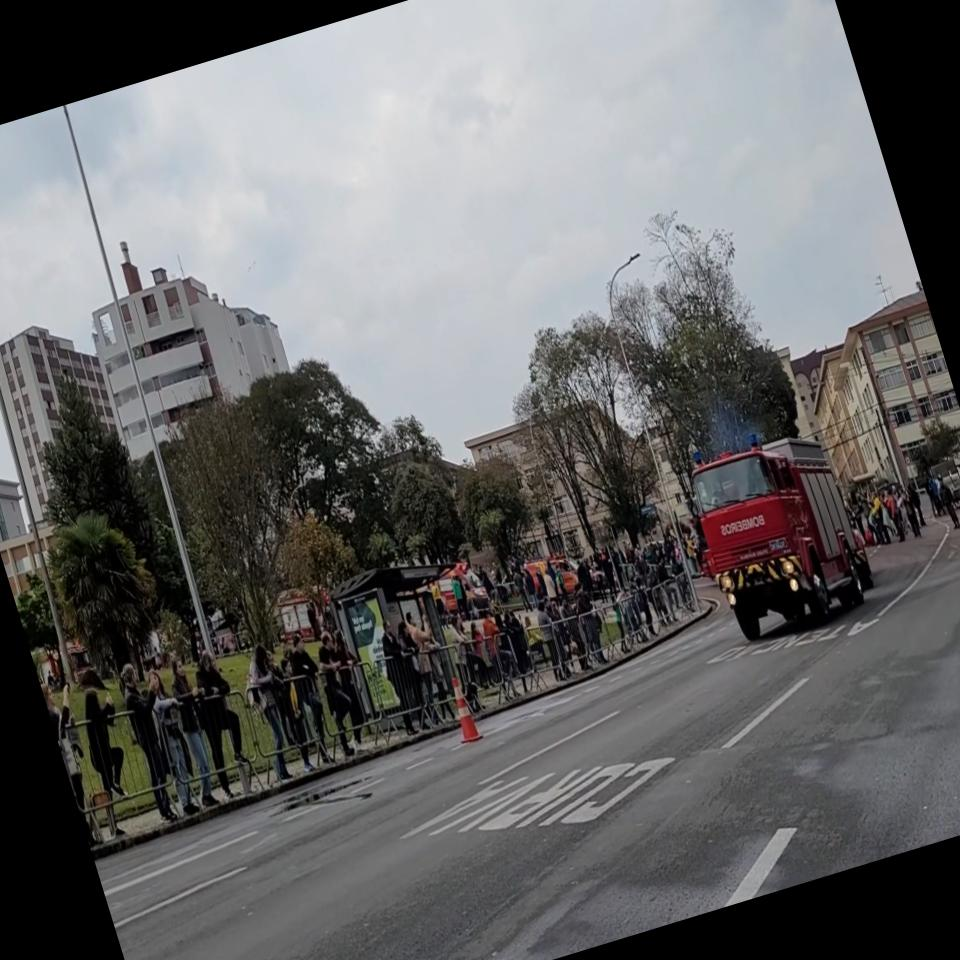viatura: (672, 411, 884, 652)
